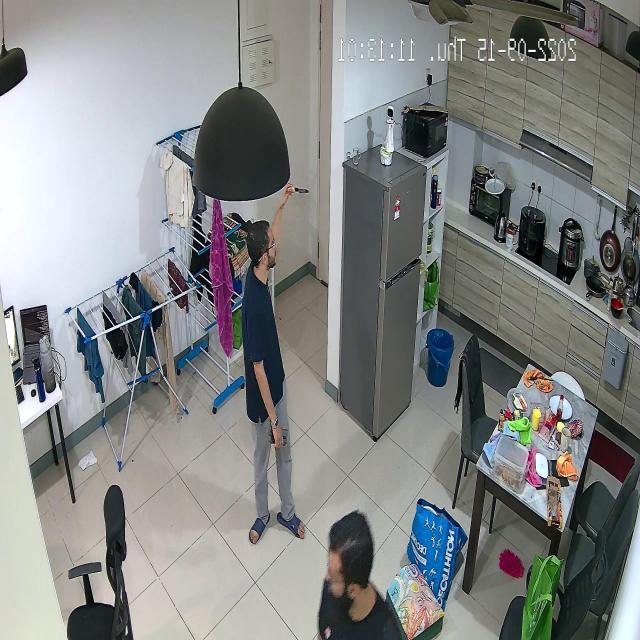Knife: (292, 178, 322, 214)
